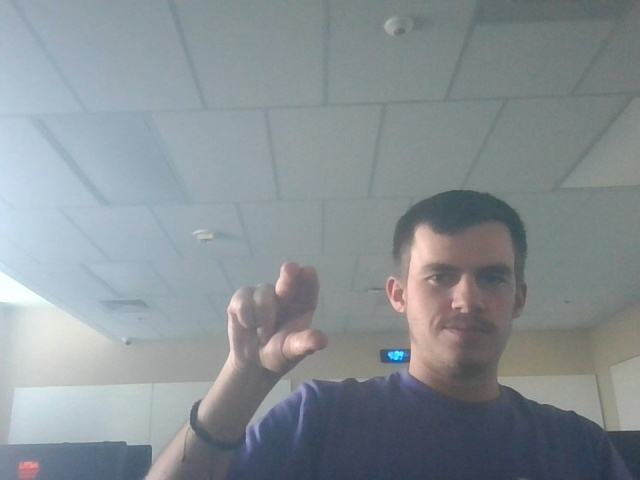no: (219, 256, 340, 379)
